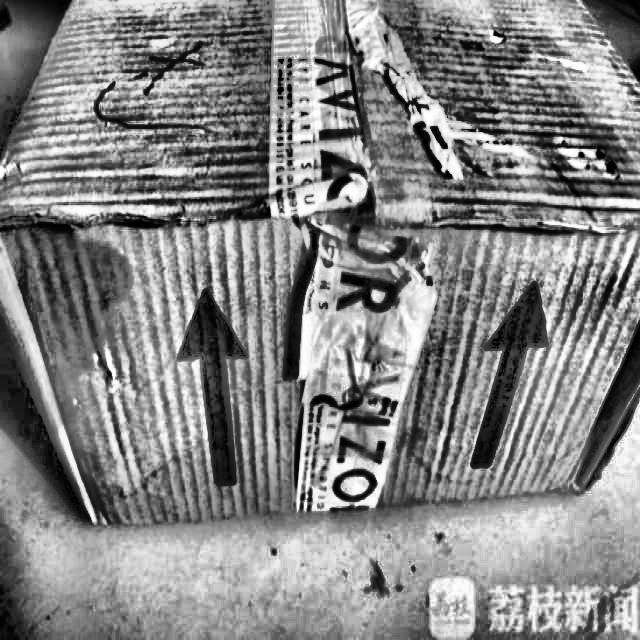box: (0, 0, 639, 545)
wet: (0, 179, 156, 427)
